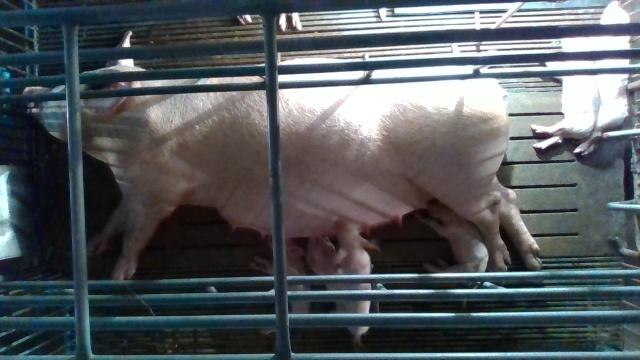piglet: (574, 0, 627, 154), (530, 37, 601, 149), (247, 236, 311, 336), (414, 203, 488, 287), (334, 215, 381, 343), (310, 234, 334, 293)
sow-sleep-lactate: (21, 31, 542, 280)
